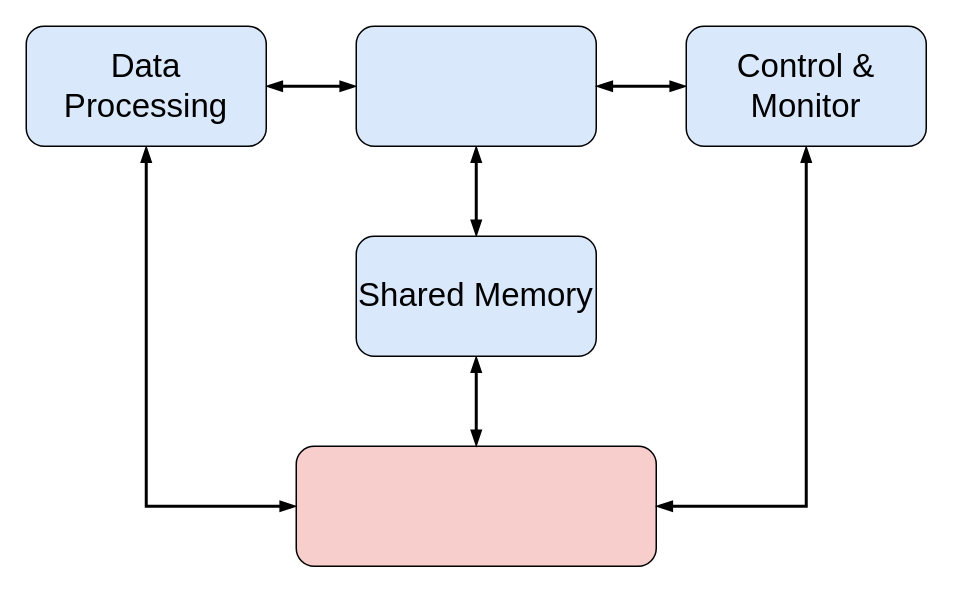
The diagram is 953 pixels wide and 593 high, and some of its shapes have lost their labels. The shapes that lost their labels are listed below. From the top down, each one's box as (x1, y1, x2, y2) in pixels, then its label:
(355, 25, 596, 146): CPU
(295, 445, 656, 566): Core NPU
